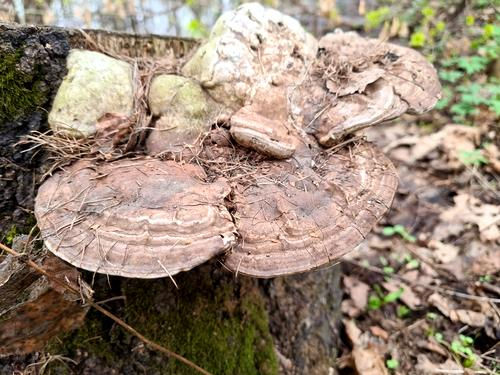Ganoderma - Fruit Body: (32, 149, 240, 284), (240, 147, 403, 283), (304, 29, 445, 142)
